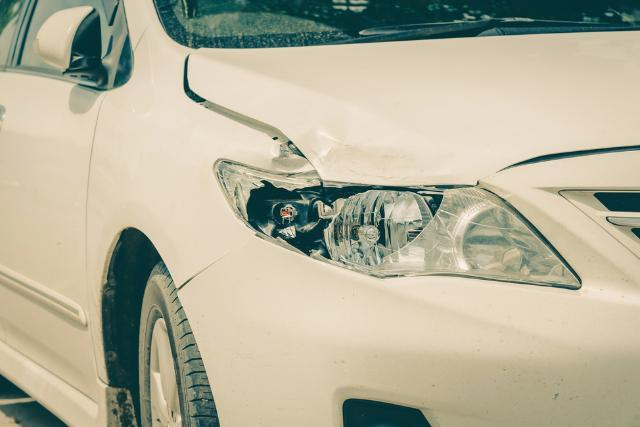Bonnet: (180, 44, 640, 194)
Light: (209, 160, 585, 294)
